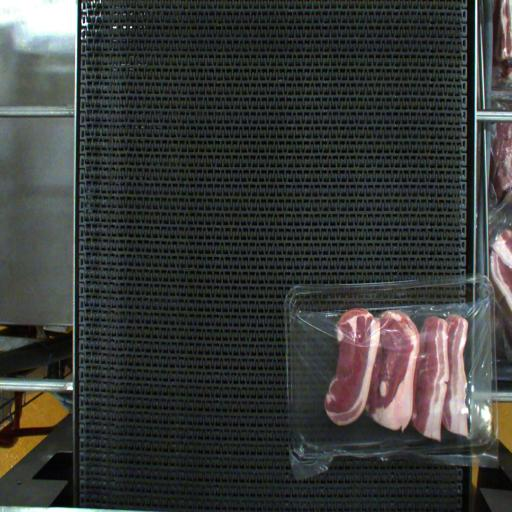unsealed: (301, 317, 495, 443)
